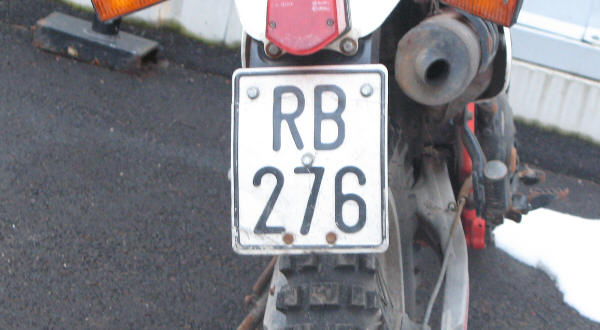license_plate: (233, 68, 387, 250)
